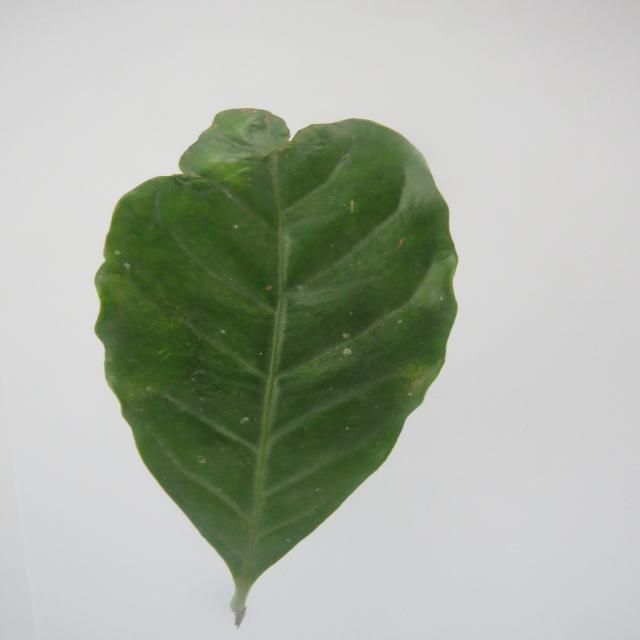DeficienciaNutricional-Boro: (95, 109, 457, 625)
